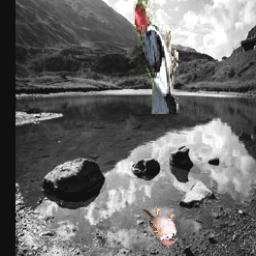Sparrow: (141, 206, 177, 247)
Woodpecker: (134, 0, 179, 114)
